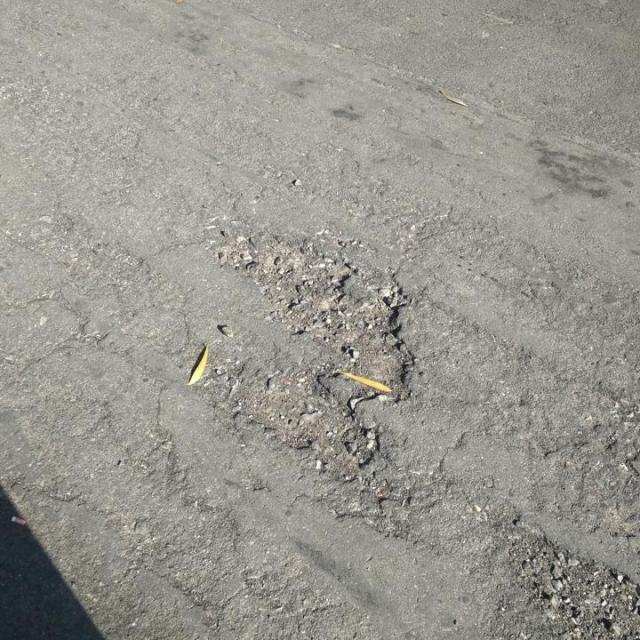pothole: (193, 232, 424, 474), (501, 528, 640, 638)
